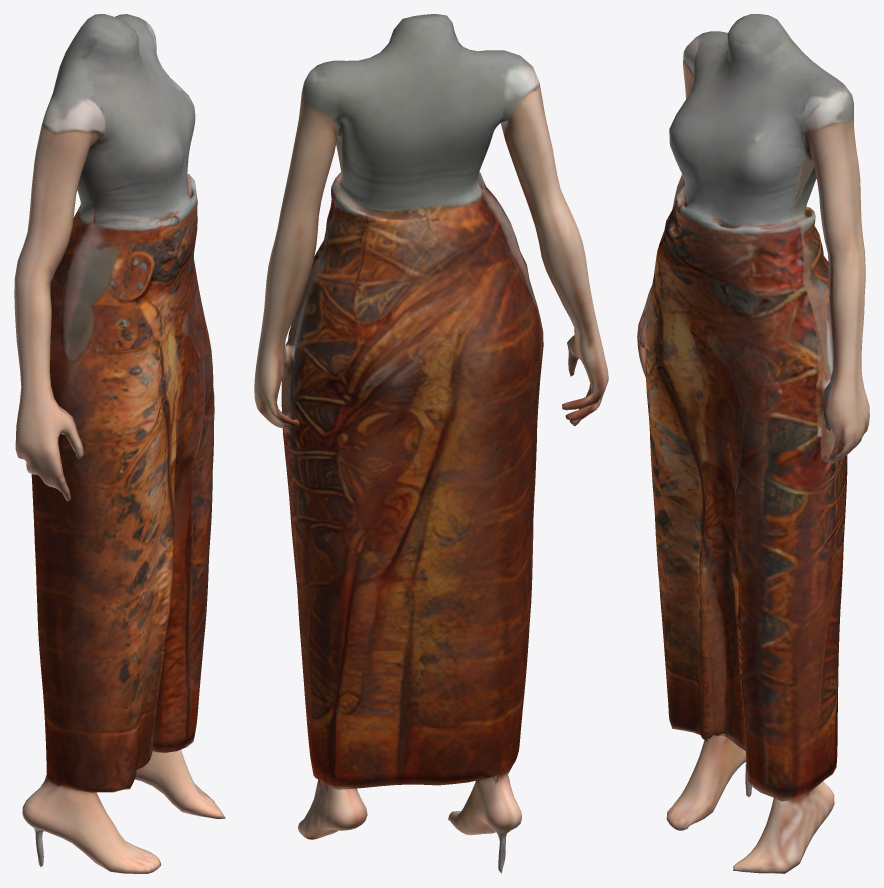
File: bathik_sarong_for_women1.glb
3 renders of one model, left to right at view 1: azimuth 30°, elevation 25°; view 2: azimuth 150°, elevation 25°; view 3: azimuth 270°, elevation 25°, orthographic. The views are drawn at different scales.
Bounding box in the file's own units: 0.6486 × 2.01 × 0.5224.
Materials: 1 (1 with a texture image).
